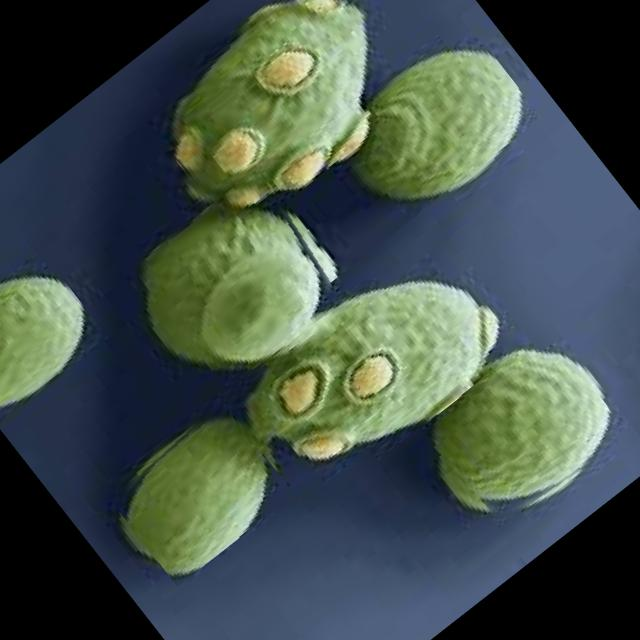Organic: (131, 0, 541, 312), (214, 229, 520, 515), (130, 168, 356, 392), (418, 330, 630, 538), (103, 388, 311, 586), (0, 246, 108, 425)
